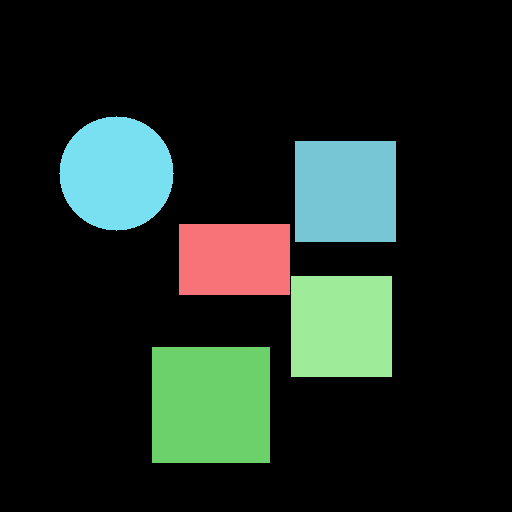circle: (59, 116, 173, 230)
rectangle: (179, 224, 289, 294)
square: (152, 347, 269, 462), (291, 276, 391, 376), (295, 141, 395, 241)
